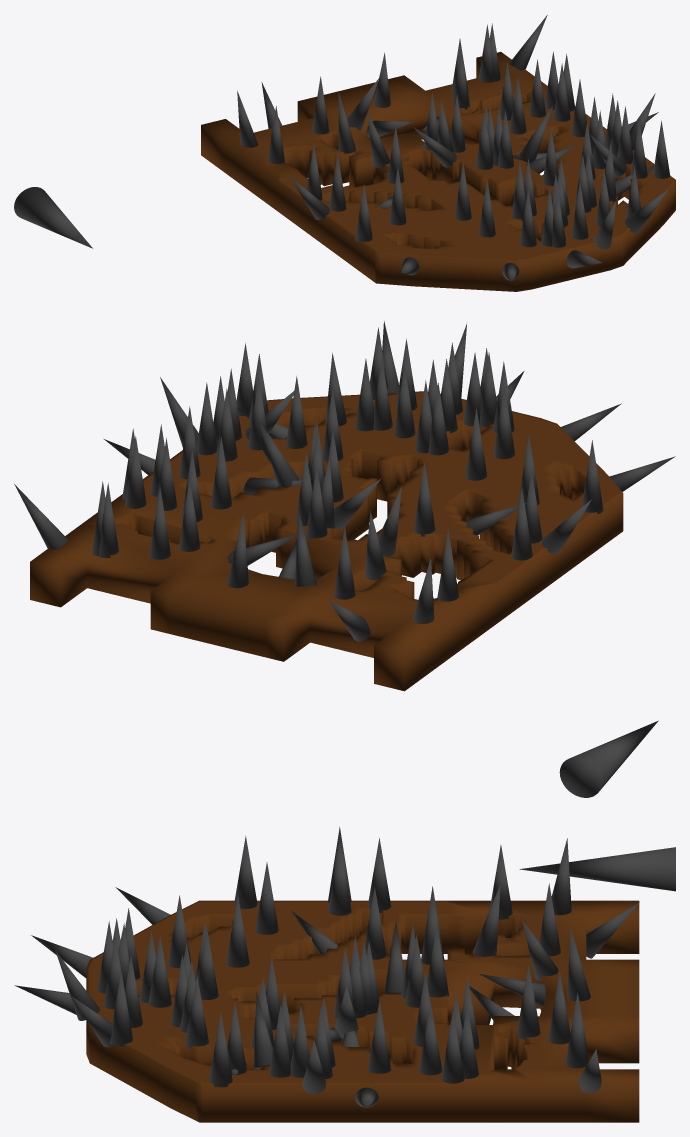
Rendered from Spiked Shield.fbx.
The picture shows the model from 3 angles, top to bottom: view 1: azimuth 30°, elevation 25°; view 2: azimuth 150°, elevation 25°; view 3: azimuth 270°, elevation 25°; orthographic projection. The views are drawn at different scales.
Parts seen in each view (by area): view 1: Spiked Shield, Spiked Shield.004; view 2: Spiked Shield, Spiked Shield.004; view 3: Spiked Shield, Spiked Shield.004.
Boxes of the visible parts, box(x1,y1,x2,y2) form: Spiked Shield: box(201, 15, 675, 291); Spiked Shield.004: box(14, 187, 92, 248); Spiked Shield: box(14, 321, 675, 691); Spiked Shield.004: box(559, 720, 658, 797); Spiked Shield: box(14, 826, 639, 1122); Spiked Shield.004: box(519, 847, 675, 891).
Bounding box in the file's own units: 55153 × 12294 × 48215.
